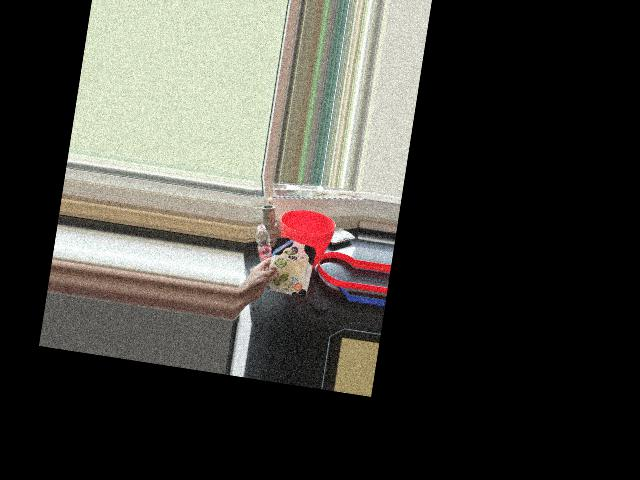cheese: (256, 234, 317, 293)
